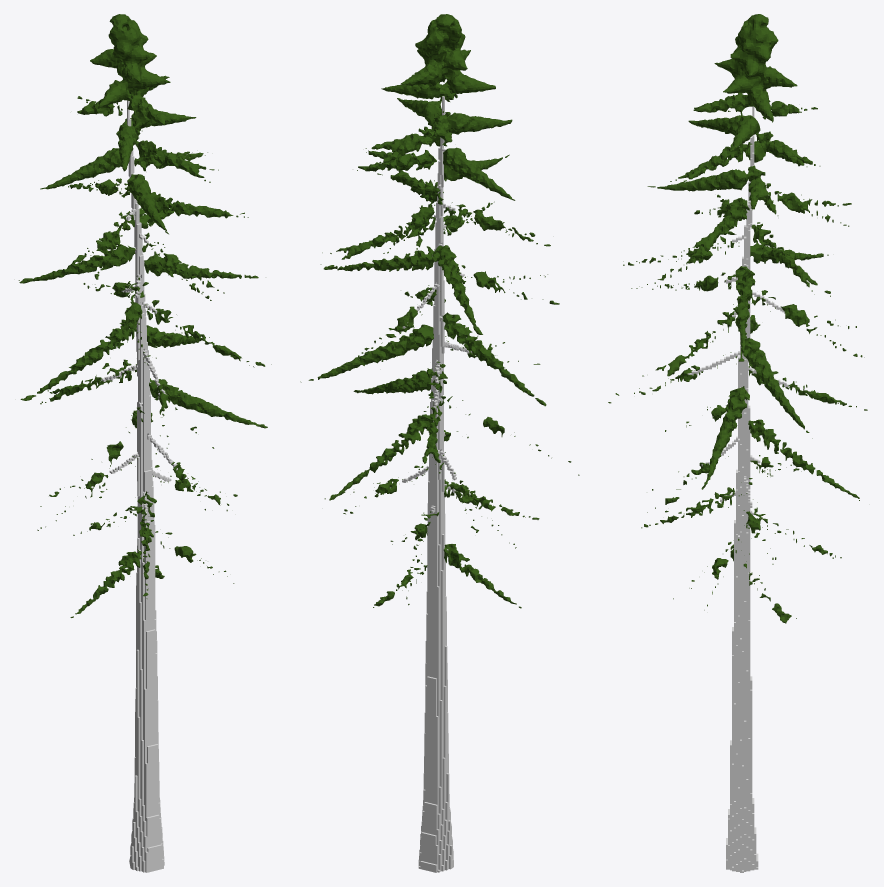
Rendered from Tallest pine tree low resolution.fbx.
3 renders of one model, left to right at view 1: azimuth 30°, elevation 25°; view 2: azimuth 150°, elevation 25°; view 3: azimuth 270°, elevation 25°, orthographic. The views are drawn at different scales.
Visible parts, largest first — view 1: leaves.002, tree.002 done; view 2: leaves.002, tree.002 done; view 3: leaves.002, tree.002 done.
Boxes of the visible parts, box(x1,y1,x2,y2) form: leaves.002: box(18, 14, 271, 617); tree.002 done: box(101, 100, 177, 872); leaves.002: box(300, 14, 579, 608); tree.002 done: box(402, 96, 471, 872); leaves.002: box(608, 14, 867, 623); tree.002 done: box(687, 106, 806, 872).
Size of the model in its own units: 1369 by 4617 by 1302.
